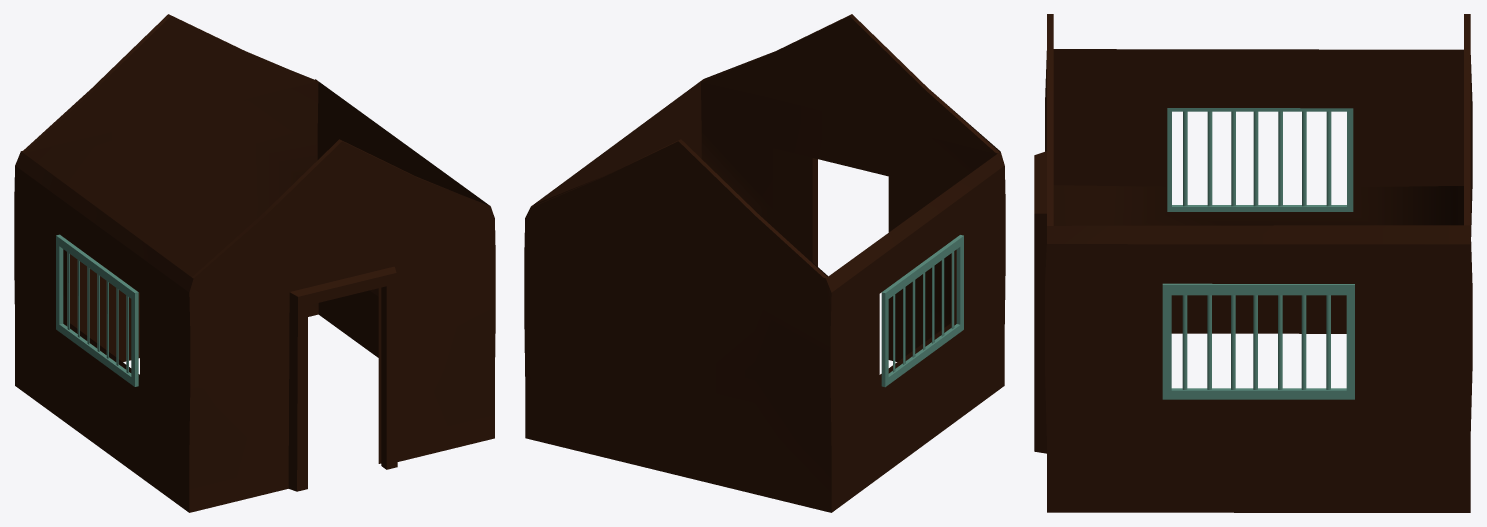
File: house.fbx
3 renders of one model, left to right at view 1: azimuth 30°, elevation 25°; view 2: azimuth 150°, elevation 25°; view 3: azimuth 270°, elevation 25°, orthographic. The views are drawn at different scales.
Visible parts, largest first — view 1: Object011; view 2: Object011; view 3: Object011.
Part boxes in pixels (<box>): Object011: <box>14,14,495,512</box>; Object011: <box>524,14,1005,512</box>; Object011: <box>1034,14,1472,512</box>.
Bounding box in the file's own units: 1632 × 1658 × 1615.
